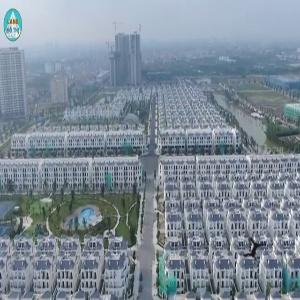drone: (227, 225, 281, 279)
